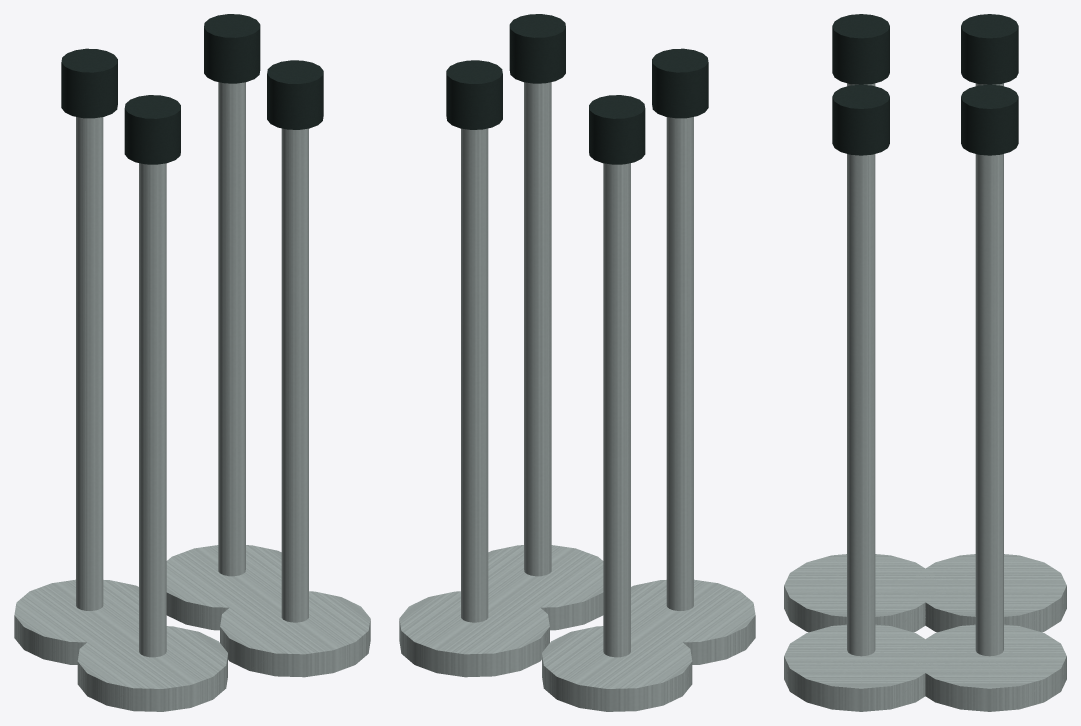
The model's file is detail-barrier-store-0.glb.
3 renders of one model, left to right at view 1: azimuth 30°, elevation 25°; view 2: azimuth 150°, elevation 25°; view 3: azimuth 270°, elevation 25°, orthographic.
Visible parts, largest first — view 1: post (×4), base (×4), belt_head (×4); view 2: post (×4), base (×4), belt_head (×4); view 3: base (×4), post (×2), belt_head (×4).
Boxes of the visible parts, box(x1,y1,x2,y2) form: post (×4): box(76, 82, 308, 657); base (×4): box(14, 545, 370, 711); belt_head (×4): box(61, 14, 323, 164); post (×4): box(461, 82, 693, 657); base (×4): box(399, 545, 755, 711); belt_head (×4): box(446, 14, 708, 164); base (×4): box(784, 554, 1066, 711); post (×2): box(847, 154, 1003, 656); belt_head (×4): box(832, 14, 1018, 155).
Size of the model in its own units: 0.5 by 1 by 0.44.
Materials: 2 (2 with a texture image).
